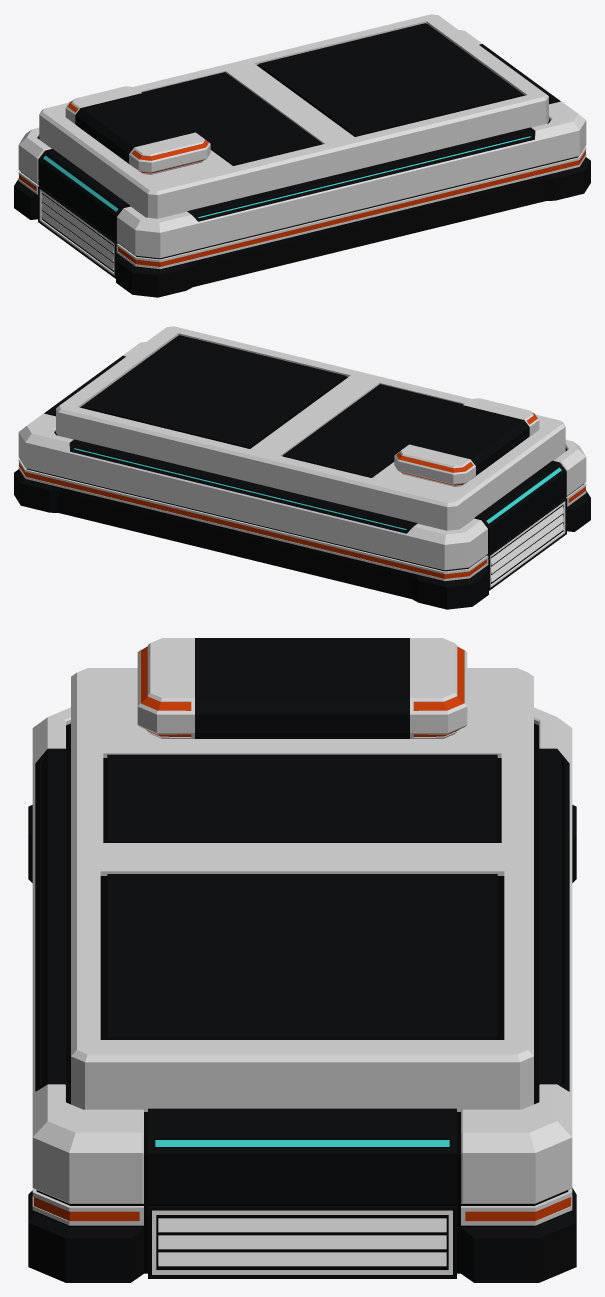
Rendered from SM_Bed_Single.obj.
3 renders of one model, top to bottom at view 1: azimuth 30°, elevation 25°; view 2: azimuth 150°, elevation 25°; view 3: azimuth 270°, elevation 25°, orthographic. The views are drawn at different scales.
Visible parts, largest first — view 1: SM_Bed_Single; view 2: SM_Bed_Single; view 3: SM_Bed_Single.
Part boxes in pixels (x1,y1,x2,y2): SM_Bed_Single: (14,14,590,297); SM_Bed_Single: (14,326,590,609); SM_Bed_Single: (28,638,576,1282).
Bounding box in the file's own units: 2.29 × 0.5496 × 1.18.
